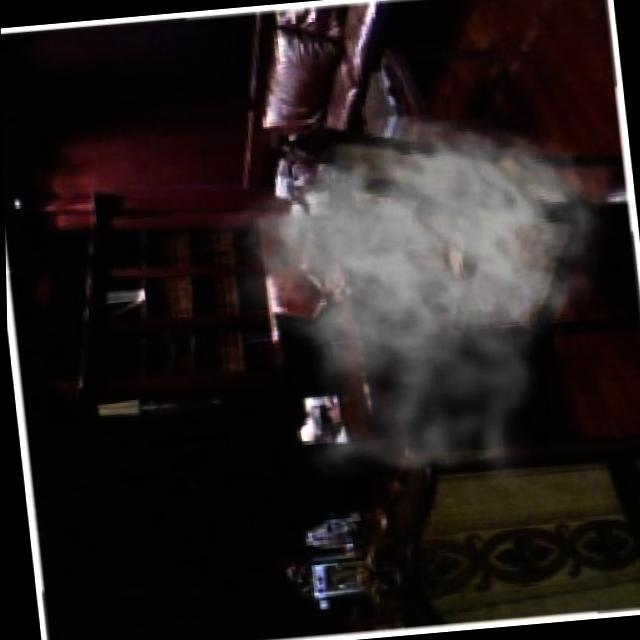no_helmet: (251, 127, 598, 481)
